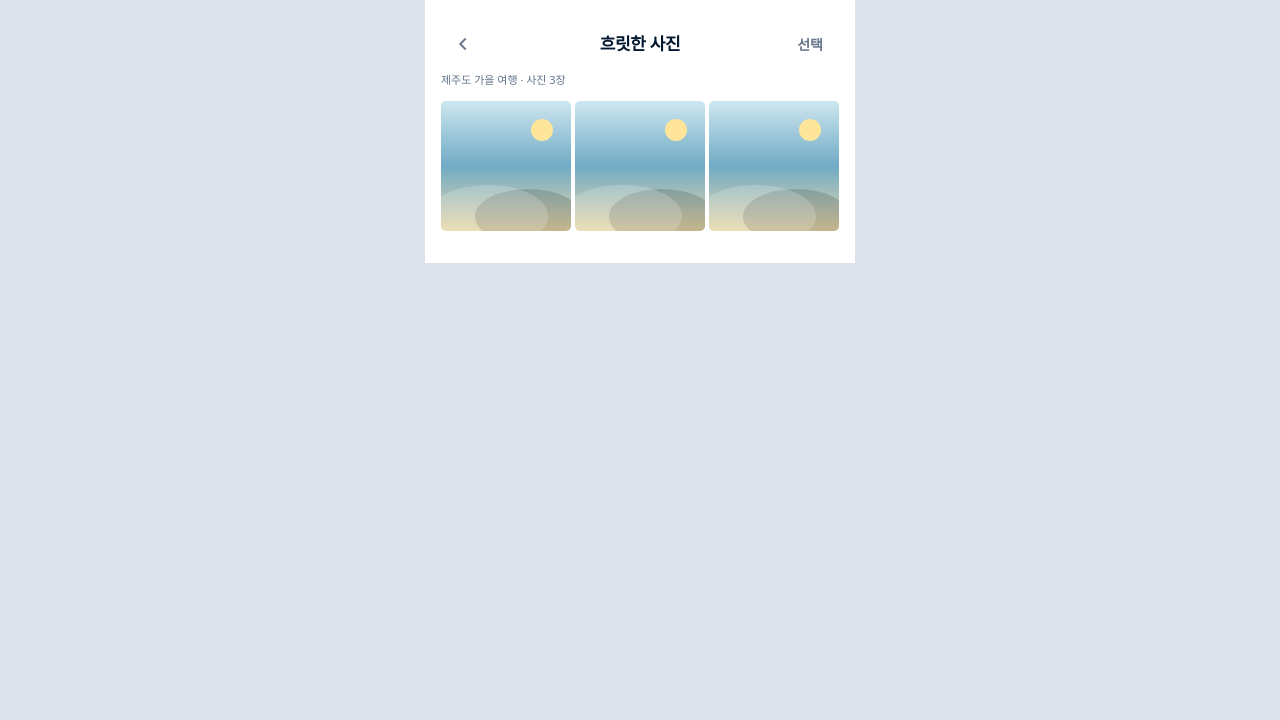
it: UnclassifiedPhotoListPage › 일반 보기에서 상세보기를 열고 키보드로 탐색하고 닫는다
Click the button named "1번째 사진 상세보기" at point(506, 166), box [441,100,571,230]
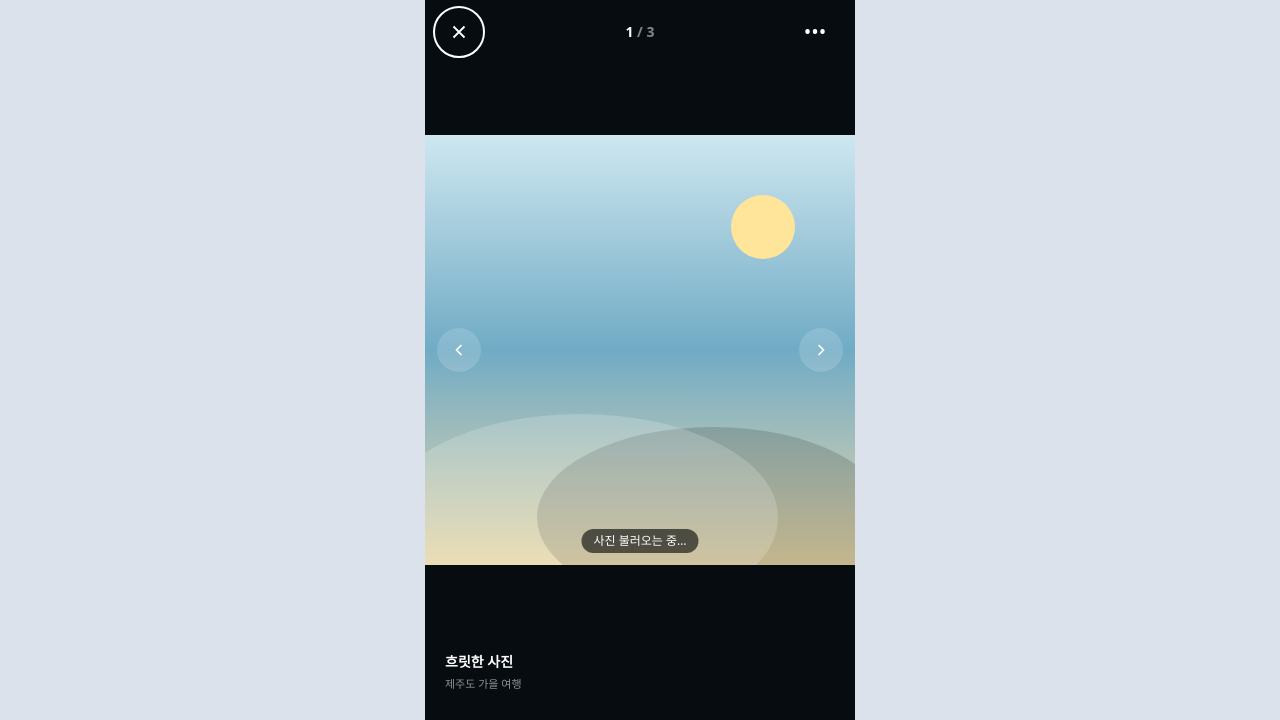
Expected: the element named "사진 순서" reads "1 / 3", [625,22,654,41]
Press Arrowright
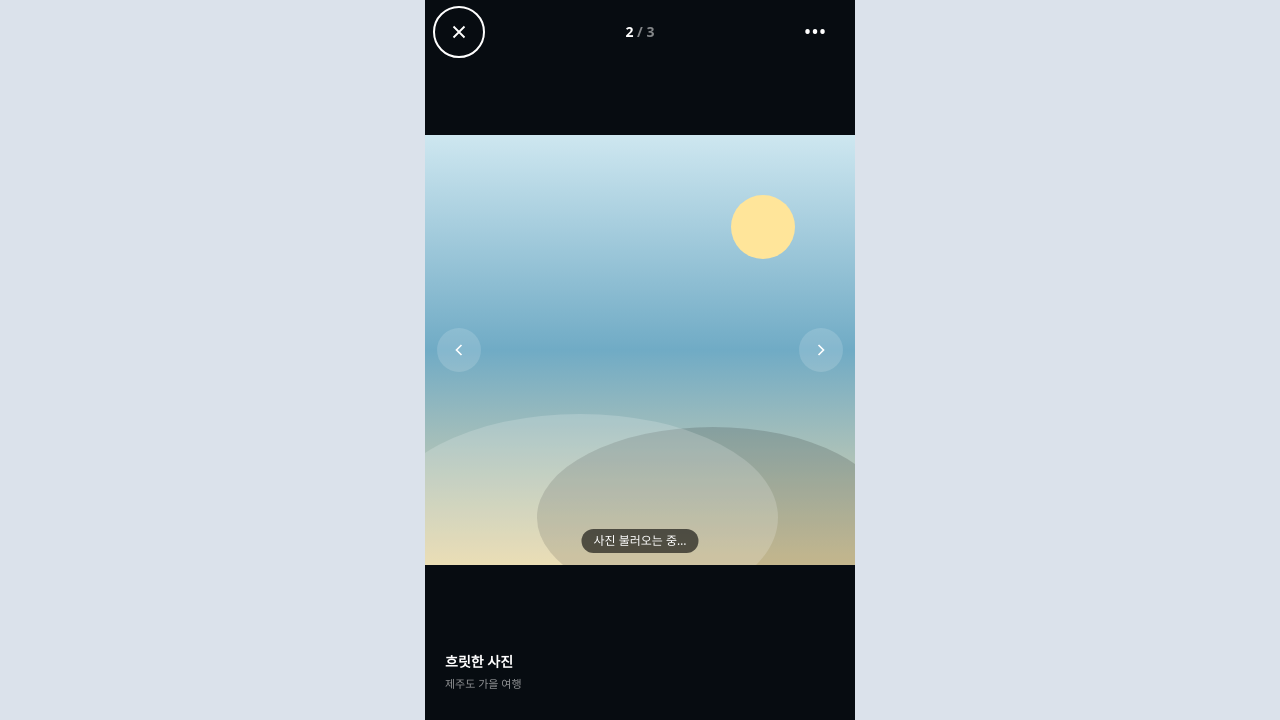
Expected: the element named "사진 순서" reads "2 / 3", [625,22,654,41]
Click the button named "다음 사진" at point(821, 350), box [799,328,843,372]
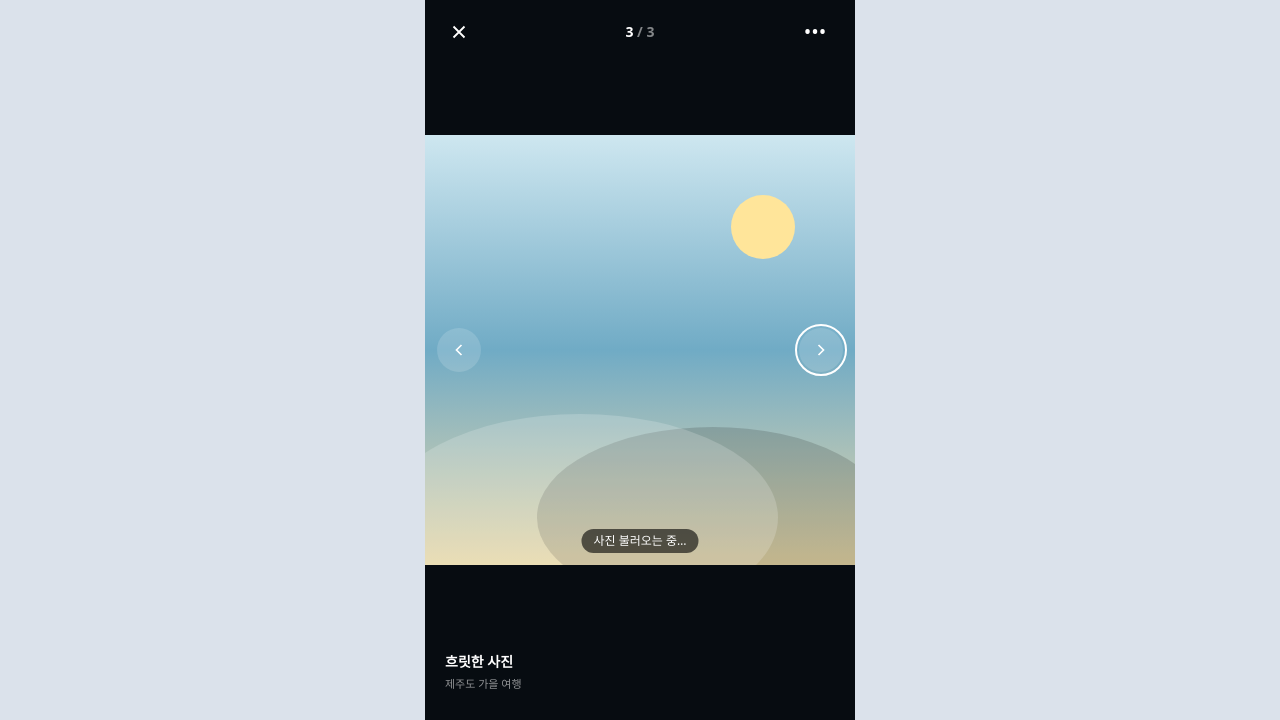
Expected: the element named "사진 순서" reads "3 / 3", [625,22,654,41]
Press Arrowleft
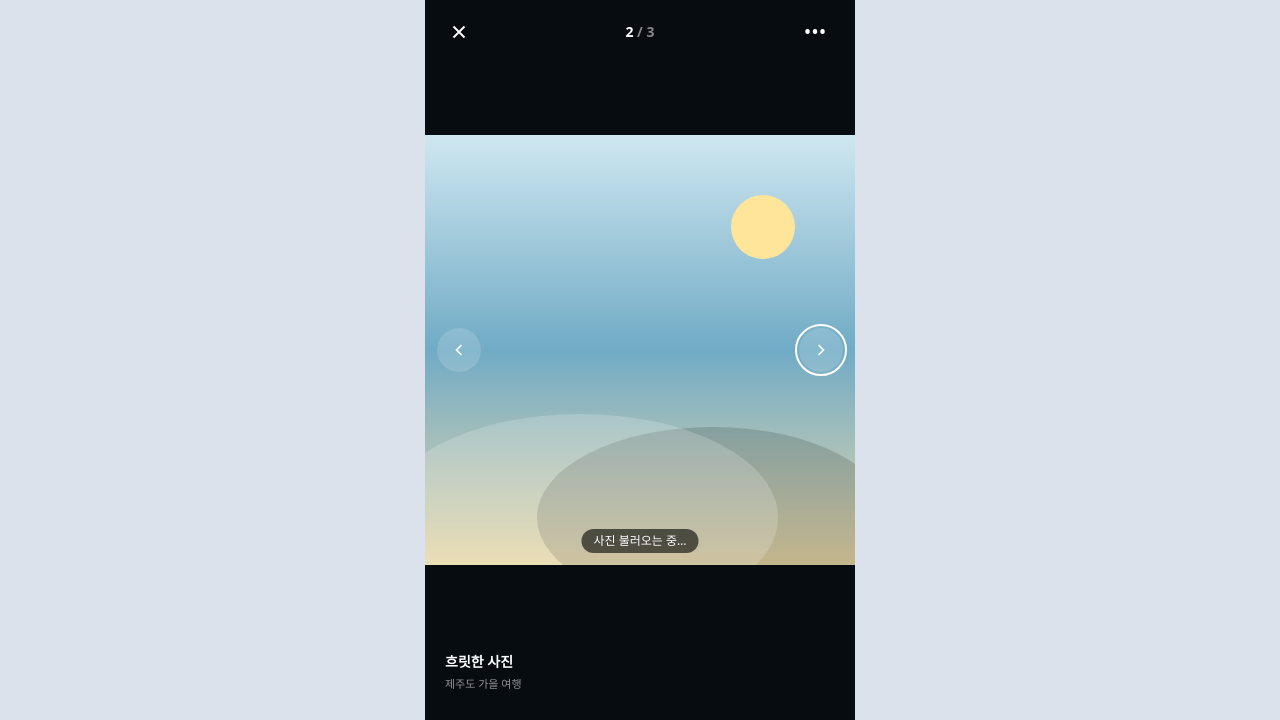
Expected: the element named "사진 순서" reads "2 / 3", [625,22,654,41]
Press Escape
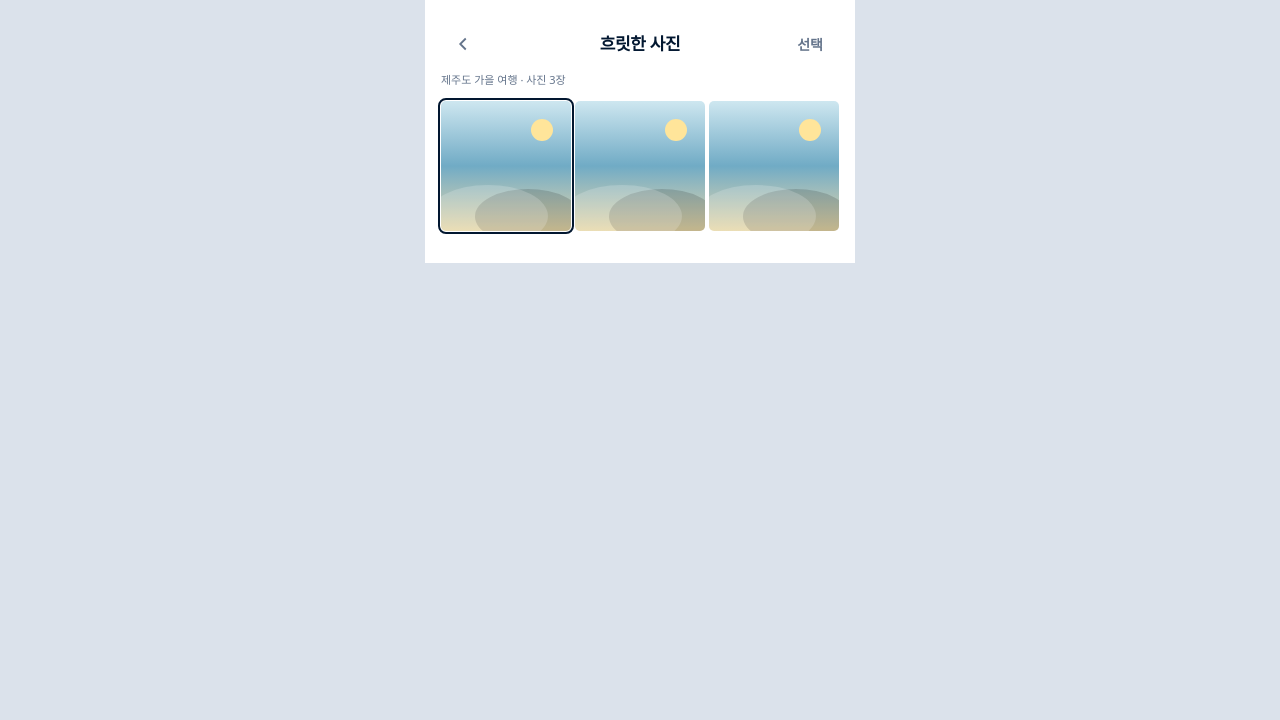
Expected: the dialog is gone
